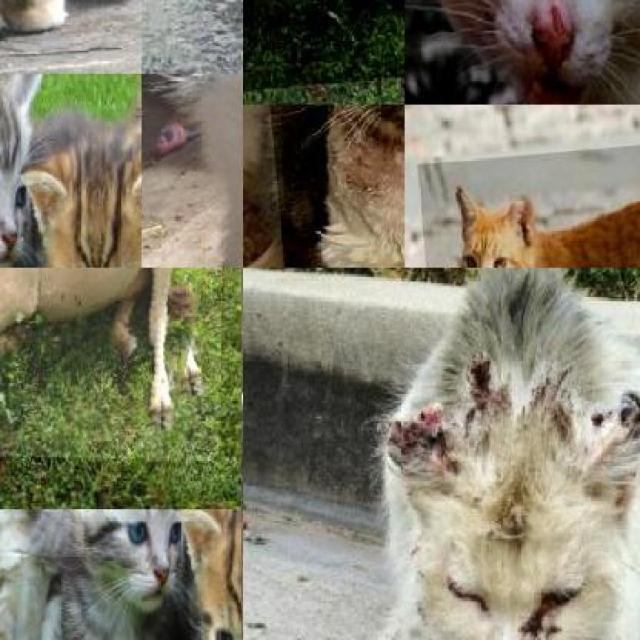cat: (355, 267, 639, 640), (417, 125, 640, 268), (250, 105, 404, 268), (404, 0, 640, 104), (142, 74, 243, 268), (37, 137, 141, 268), (88, 509, 195, 631), (0, 74, 43, 268), (189, 509, 242, 640), (0, 510, 86, 556)
cow: (0, 267, 225, 458), (243, 0, 405, 105)
injured: (381, 392, 467, 542), (491, 0, 598, 105)
